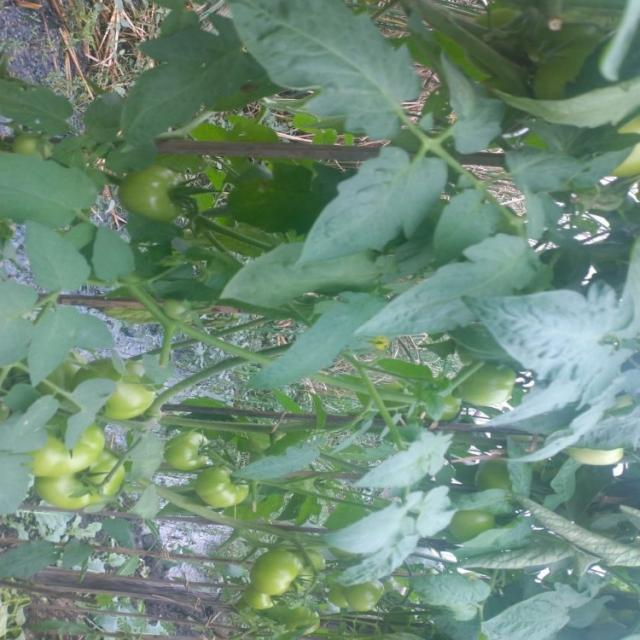tomato: (44, 448, 125, 516), (22, 421, 107, 479), (117, 166, 196, 227), (462, 360, 526, 412), (104, 365, 156, 422), (259, 544, 312, 597), (457, 509, 523, 545), (161, 430, 209, 478), (202, 466, 253, 511), (351, 579, 396, 619)
